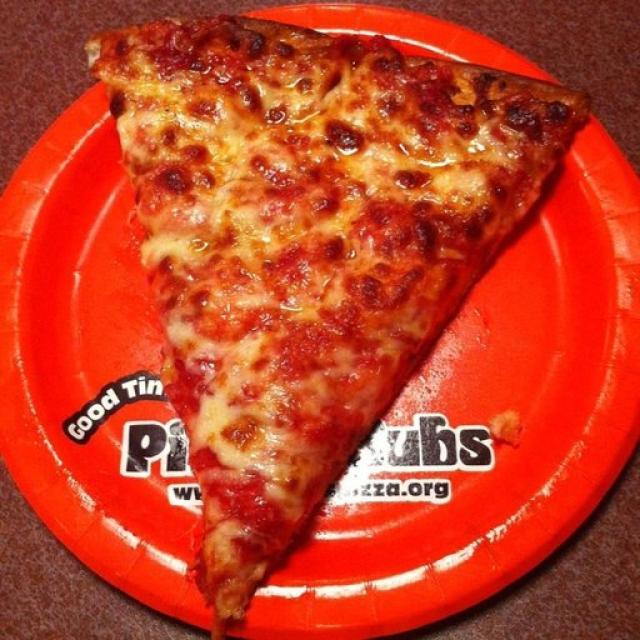Pizza: (88, 18, 589, 640)
